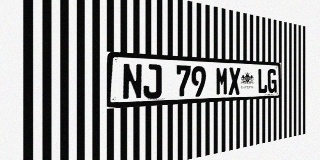7: (175, 65, 191, 97)
9: (192, 66, 206, 97)
G: (268, 69, 277, 93)
J: (143, 64, 162, 99)
L: (258, 68, 267, 94)
M: (216, 67, 228, 96)
N: (122, 63, 142, 100)
X: (229, 67, 240, 95)
